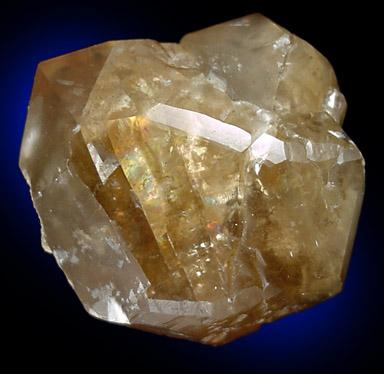calcite: (19, 14, 366, 346)
